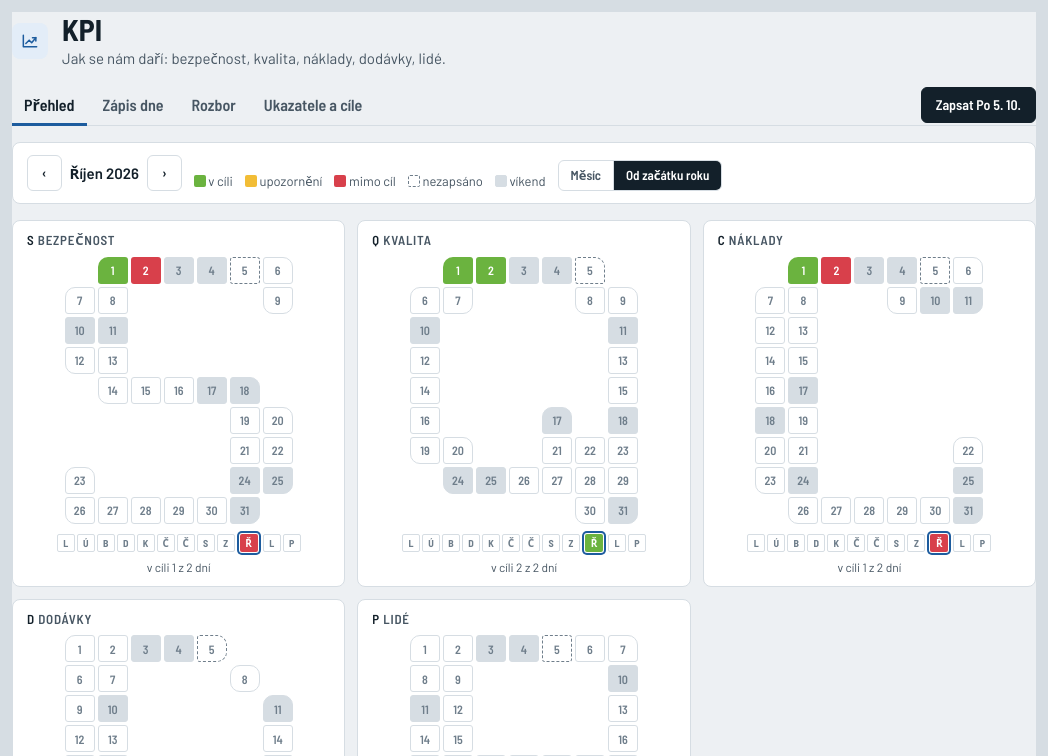
Test case: KpiPage › + OIL u ukazatele mimo cíl založí bod s písmenem; opatření pod grafy a u písmene
Click the 2nd button with class "kpi-cell" at coordinates (146, 270), box [131,257,161,284]
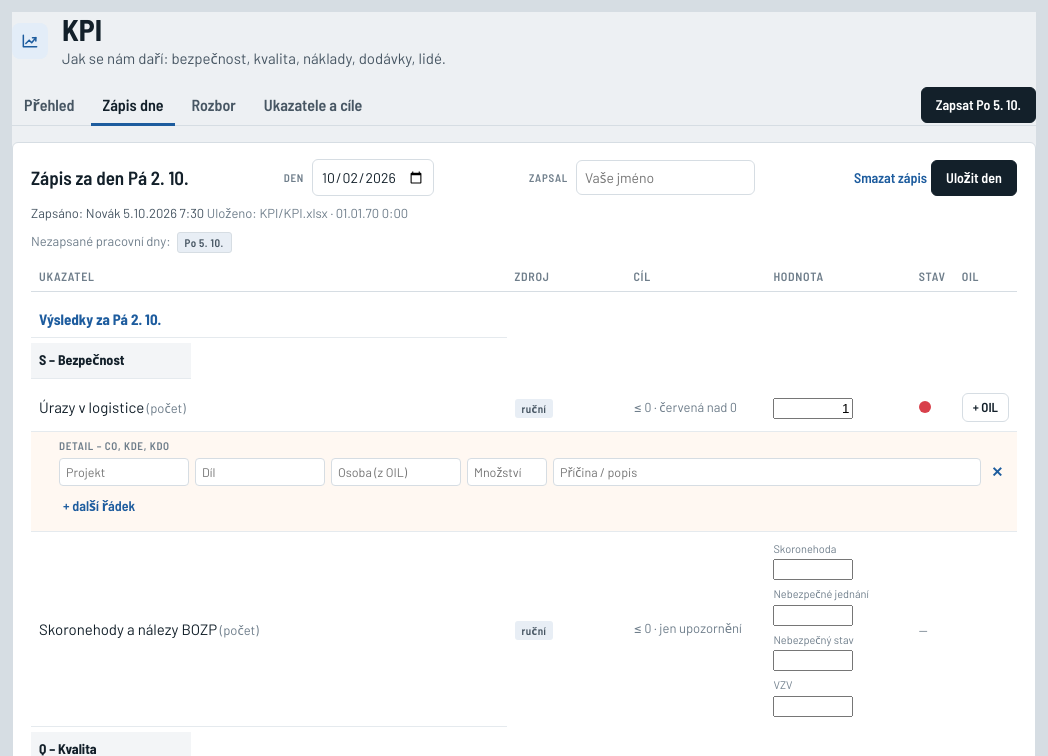
Now the button "‹" is gone
Now the button "+ OIL" is shown, box [962,393,1009,422]
neuložená změna: nejdřív uložit den
Replace the text in the field named "Úrazy v logistice" with "2" at coordinates (813, 408), box [773,398,853,419]
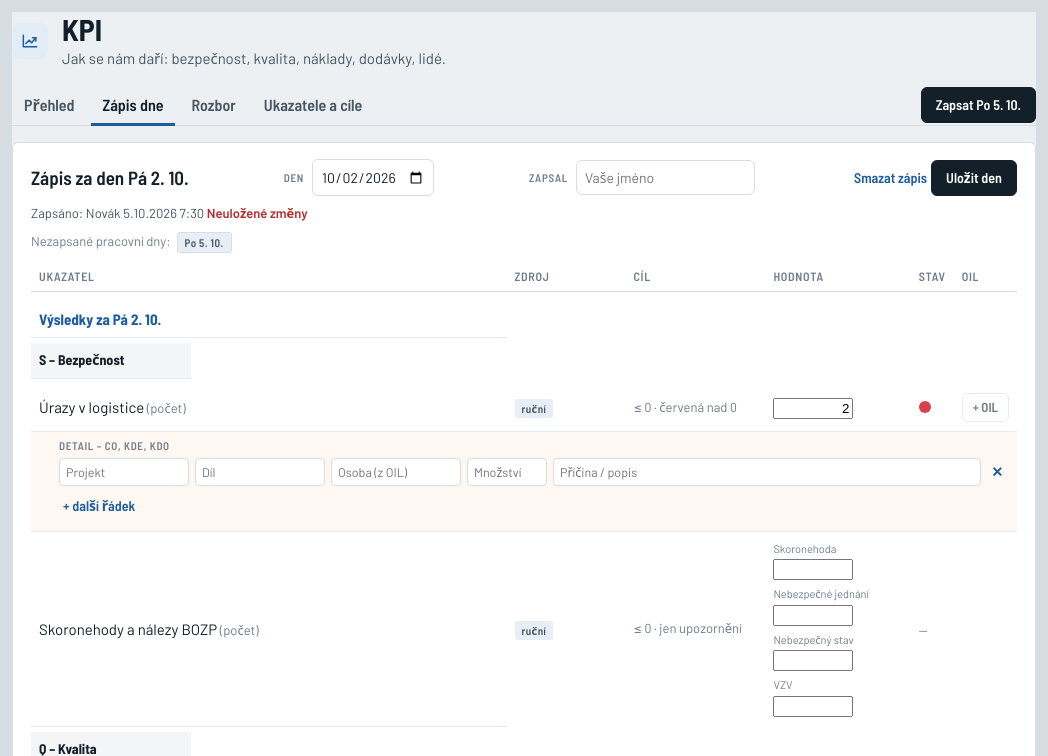
Now the button "+ OIL" is disabled, box [962,393,1009,422]
Replace the text in the field named "Úrazy v logistice" with "1" at coordinates (813, 408), box [773,398,853,419]
Click the tab "Přehled" at coordinates (49, 106), box [12,85,86,126]
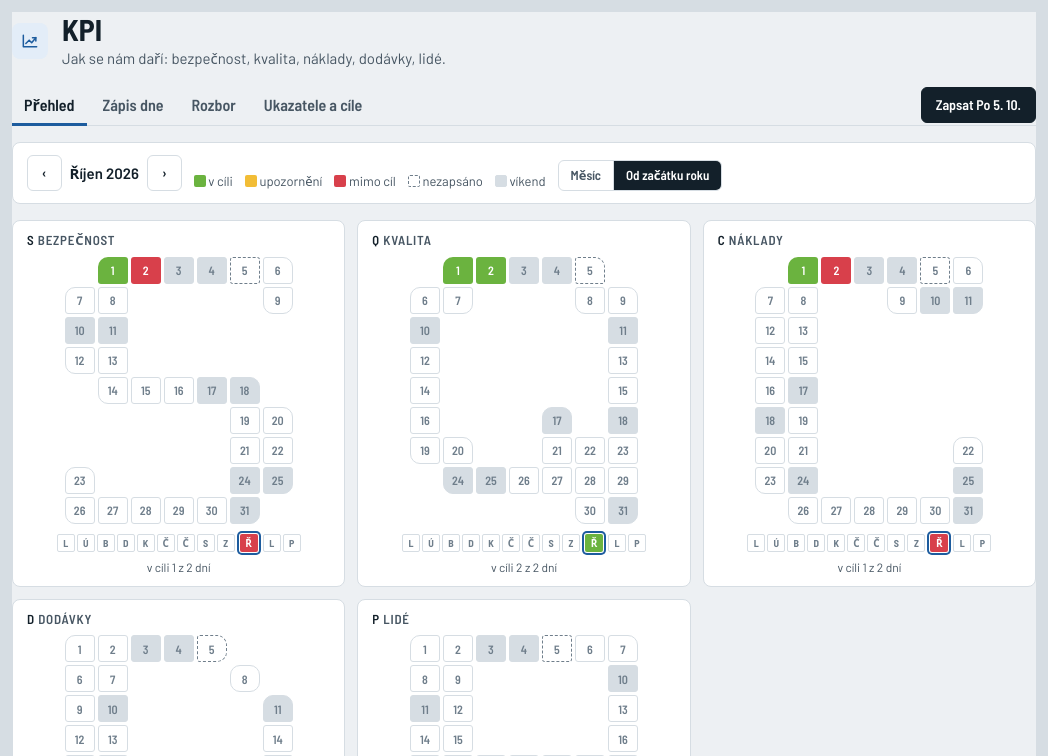
Click the 2nd button with class "kpi-cell" at coordinates (146, 270), box [131,257,161,284]
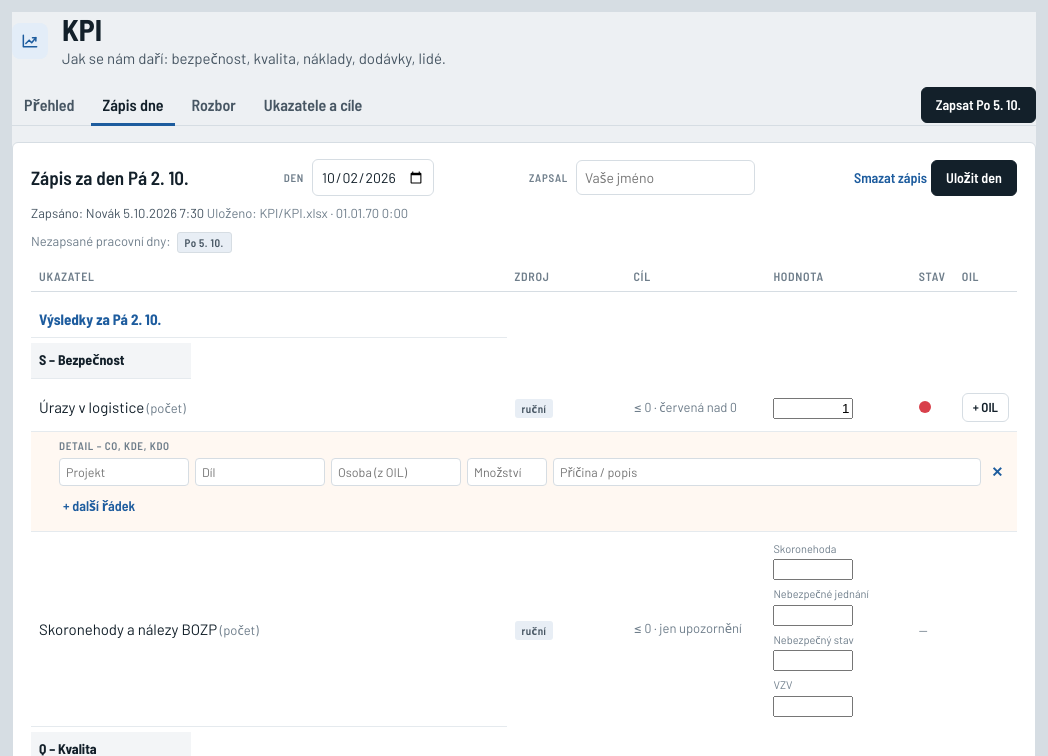
Click the button "+ OIL" at coordinates (985, 407), box [962,393,1009,422]
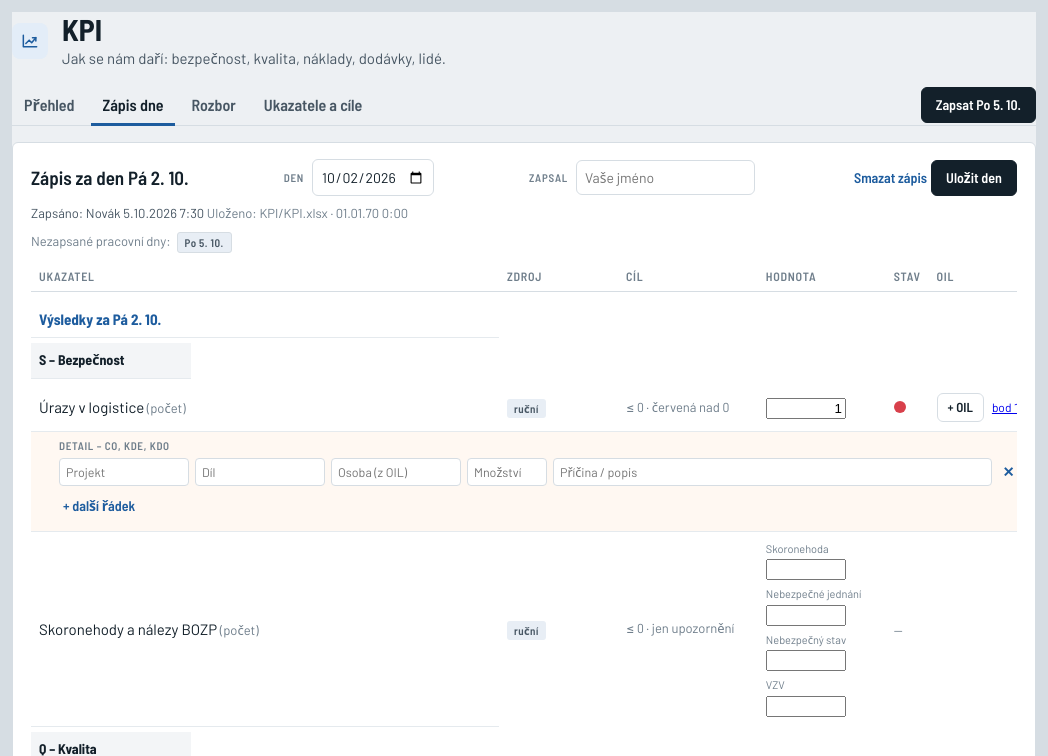
Now the link "bod 1" is shown, box [992,400,1017,414]
Click the tab "Přehled" at coordinates (49, 106), box [12,85,86,126]
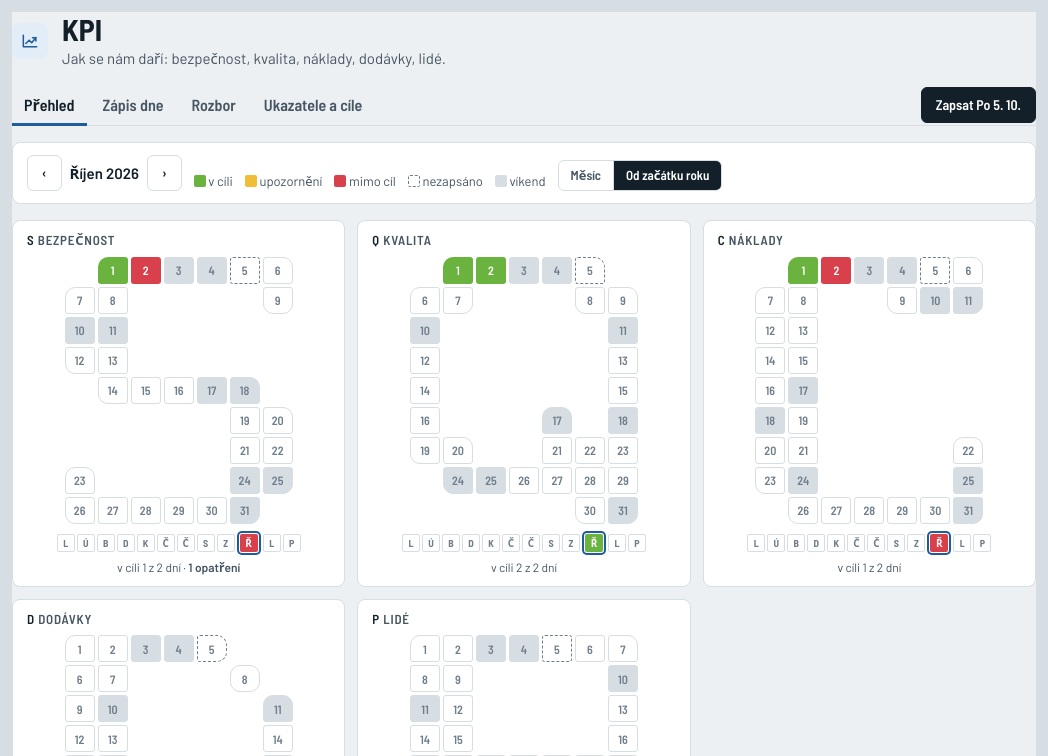
Now the element with class "kpi-caption" shows "1 opatření", box [188,560,240,574]
